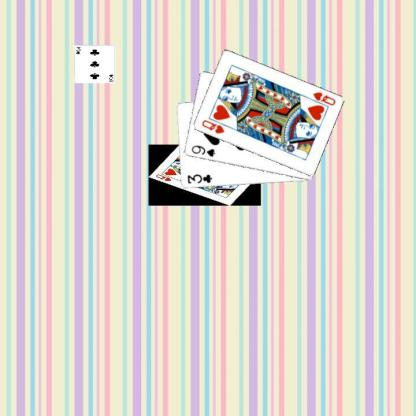3C: (185, 171, 213, 185)
9S: (188, 143, 216, 158)
QH: (305, 90, 336, 109), (199, 117, 225, 135)
